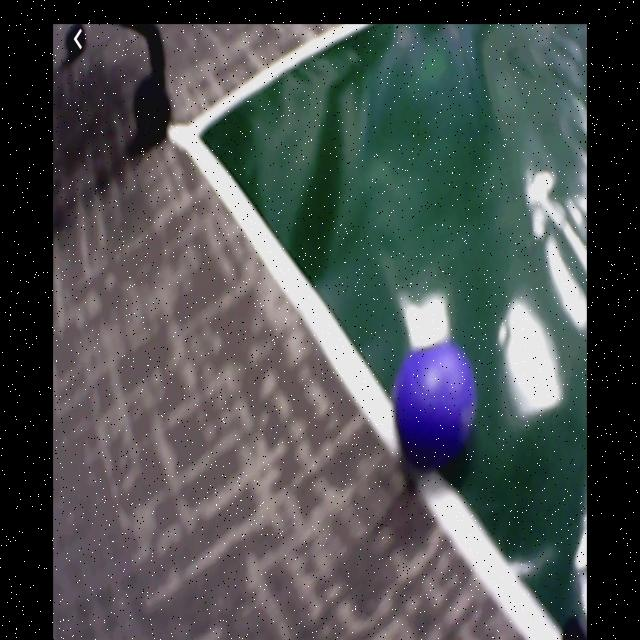ball: (395, 340, 476, 461)
